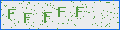F: (24, 13, 32, 24), (76, 7, 84, 17), (58, 7, 66, 17), (44, 12, 52, 22), (8, 9, 16, 19)
